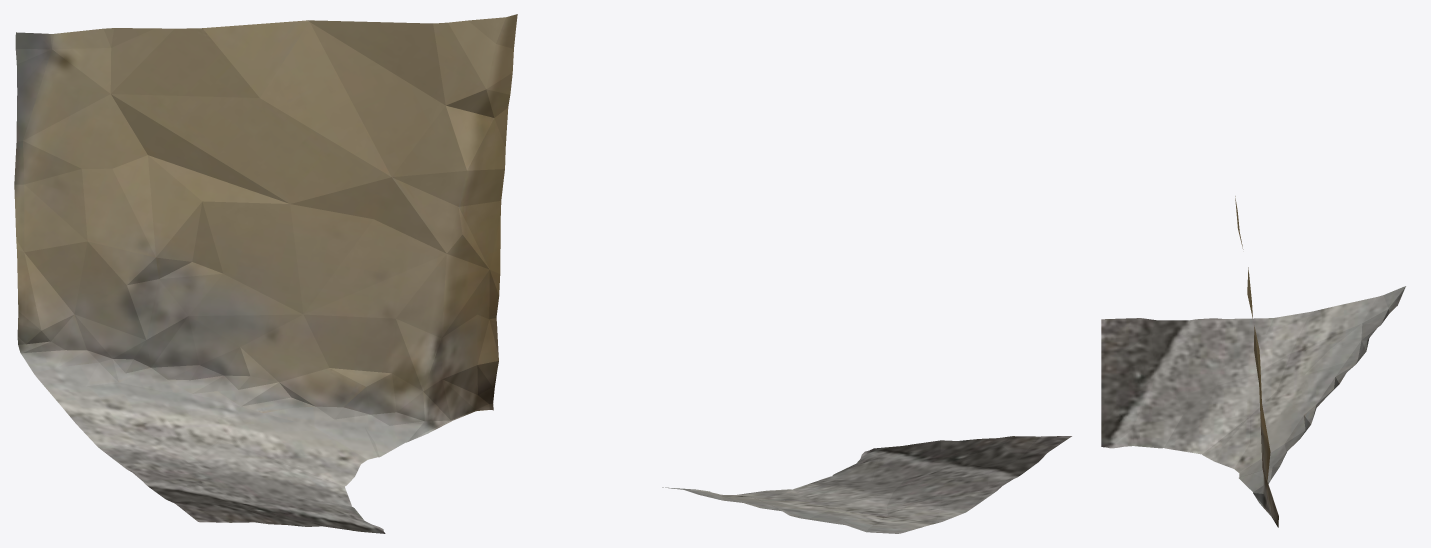
3 views of the same model, side by side, from view 1: azimuth 30°, elevation 25°; view 2: azimuth 150°, elevation 25°; view 3: azimuth 270°, elevation 25° (orthographic). The views are drawn at different scales.
Size of the model in its own units: 0.8373 by 0.8374 by 0.6752.
3 materials, 3 textured.
